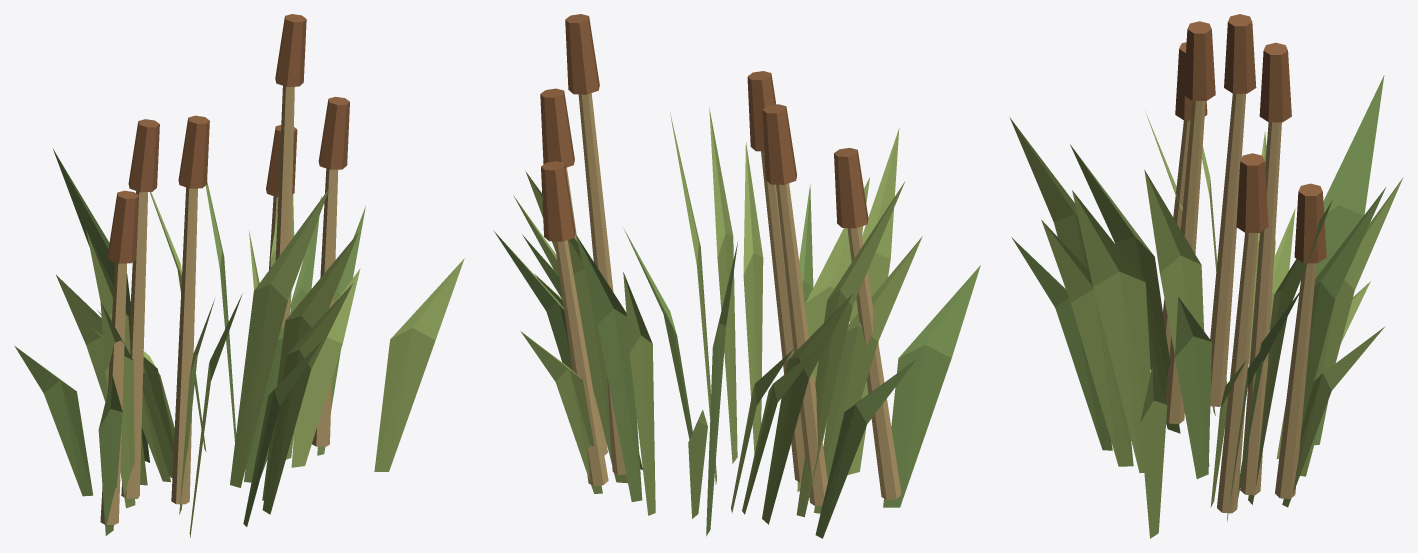
File: riverbank_reeds.glb
3 renders of one model, left to right at view 1: azimuth 30°, elevation 25°; view 2: azimuth 150°, elevation 25°; view 3: azimuth 270°, elevation 25°, orthographic. The views are drawn at different scales.
Visible parts, largest first — view 1: riverbank_reeds; view 2: riverbank_reeds; view 3: riverbank_reeds.
Part boxes in pixels (left/top/right/bottom): riverbank_reeds: left=14, top=14, right=464, bottom=537; riverbank_reeds: left=493, top=14, right=980, bottom=538; riverbank_reeds: left=1010, top=14, right=1403, bottom=538.
Size of the model in its own units: 1.59 by 1.57 by 1.19.
